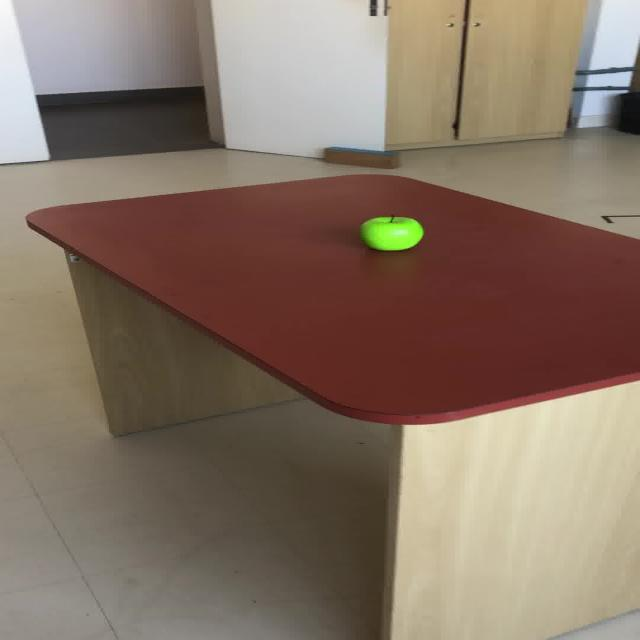apple: (358, 214, 424, 251)
